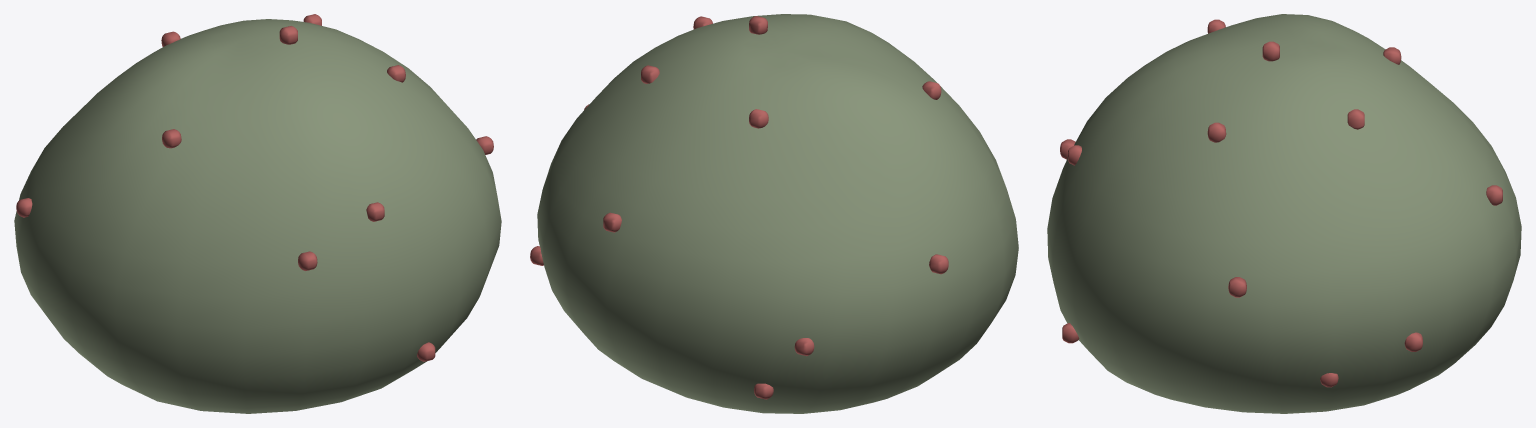
The model's file is BushLarge.fbx.
3 renders of one model, left to right at view 1: azimuth 30°, elevation 25°; view 2: azimuth 150°, elevation 25°; view 3: azimuth 270°, elevation 25°, orthographic. The views are drawn at different scales.
Parts seen in each view (by area): view 1: pCube40; view 2: pCube40; view 3: pCube40.
Part boxes in pixels (x1,y1,x2,y2): pCube40: (14,14,501,413); pCube40: (530,14,1018,413); pCube40: (1047,14,1521,413).
Bounding box in the file's own units: 4 × 2.99 × 3.8.
